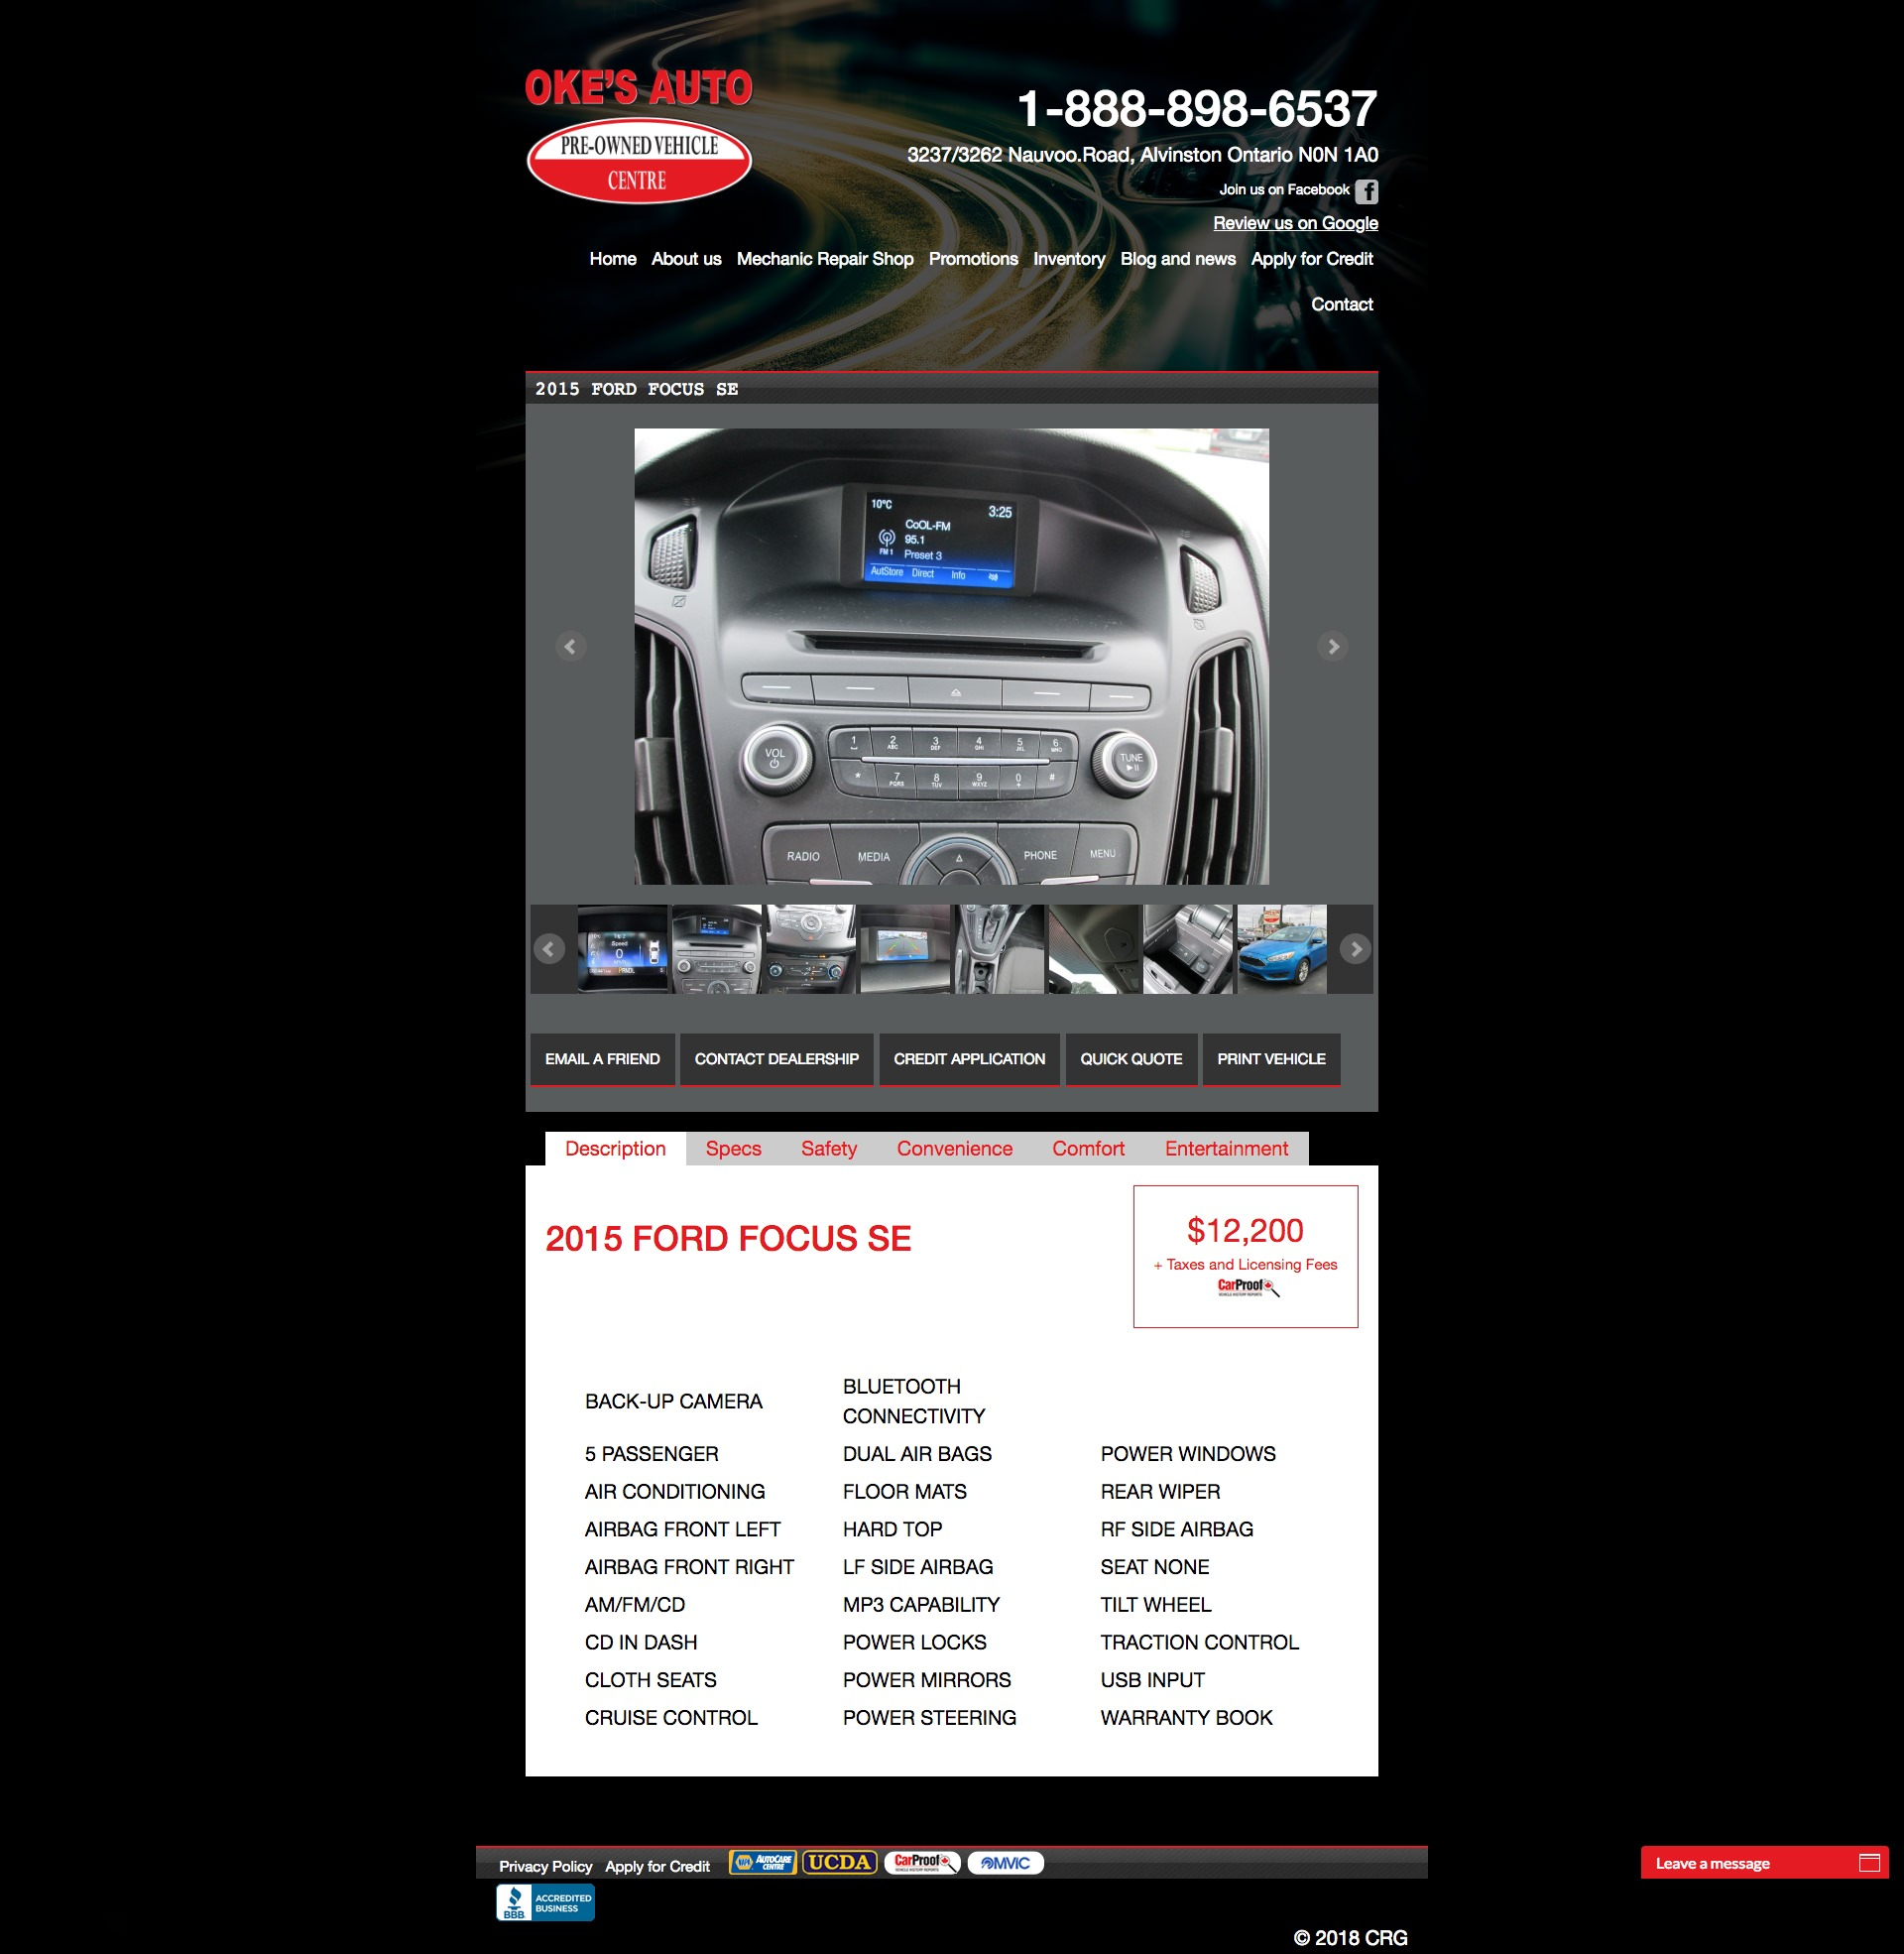car: (1339, 932, 1372, 965)
